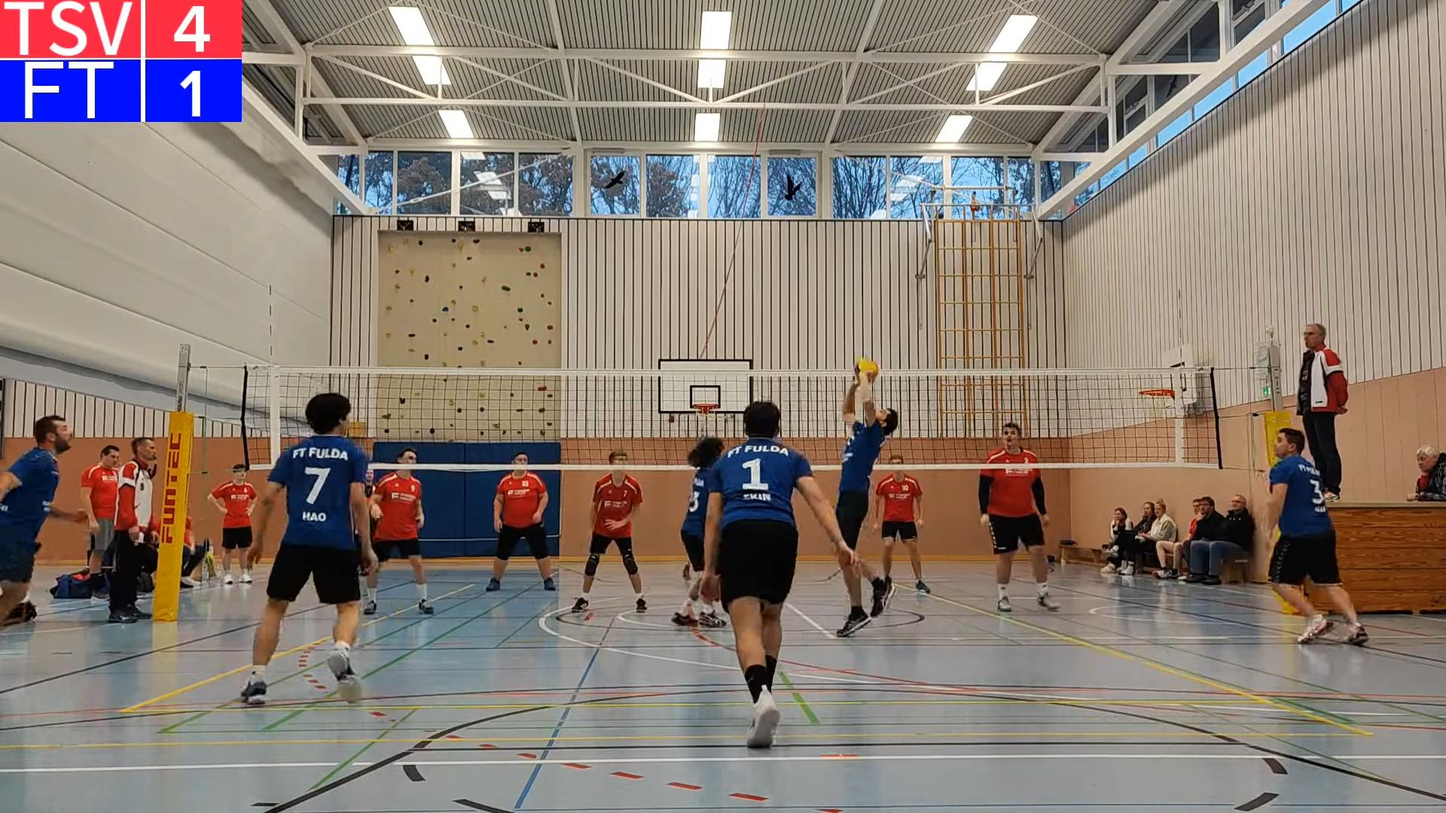Player: (703, 401, 856, 747), (240, 394, 376, 704), (1267, 429, 1368, 644), (0, 416, 87, 619), (978, 422, 1059, 611), (572, 451, 646, 612), (672, 437, 725, 627), (486, 452, 556, 591), (874, 452, 929, 592), (396, 449, 416, 466)
Set: (829, 361, 896, 639)
ball: (854, 358, 885, 378)
